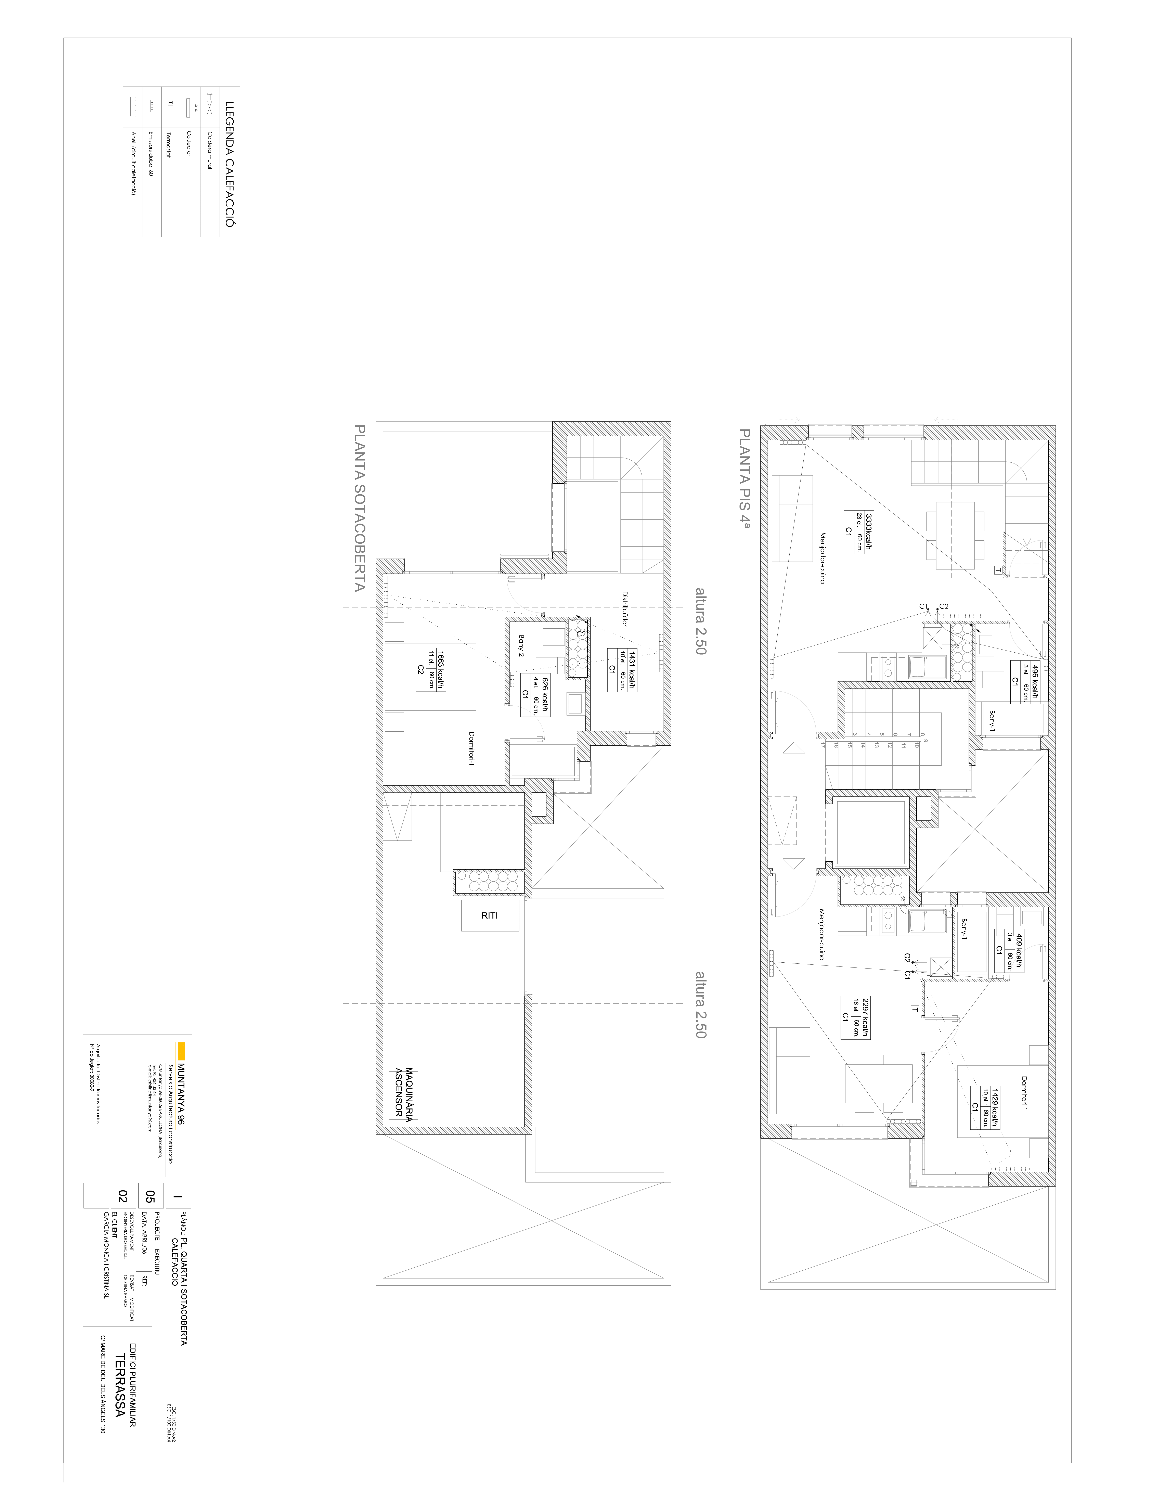door: (770, 690, 820, 742)
sink: (908, 654, 947, 680)
